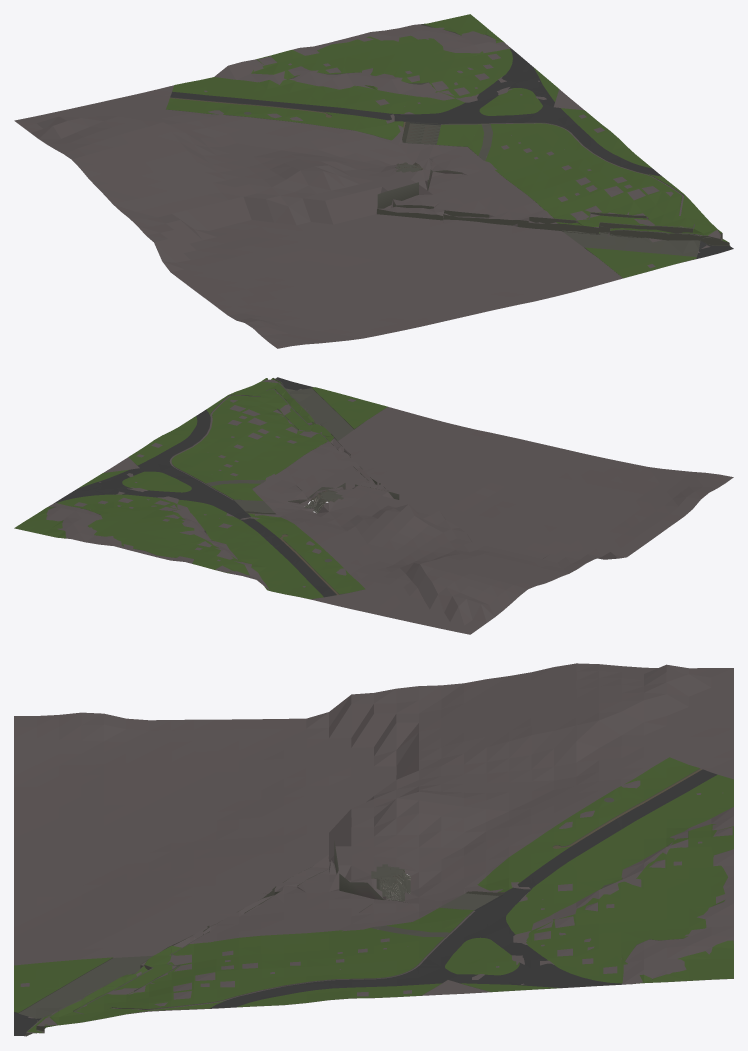
3 renders of one model, top to bottom at view 1: azimuth 30°, elevation 25°; view 2: azimuth 150°, elevation 25°; view 3: azimuth 270°, elevation 25°, orthographic. The views are drawn at different scales.
Visible parts, largest first — view 1: c_m04_m11; view 2: c_m04_m11; view 3: c_m04_m11.
Part boxes in pixels (<box>): c_m04_m11: <box>14,14,733,348</box>; c_m04_m11: <box>14,377,733,634</box>; c_m04_m11: <box>14,663,733,1036</box>.
Bounding box in the file's own units: 128 × 16.6 × 128.
